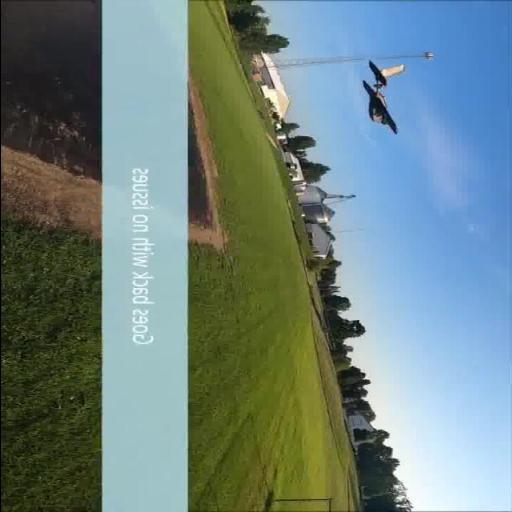uav: (344, 60, 418, 136)
